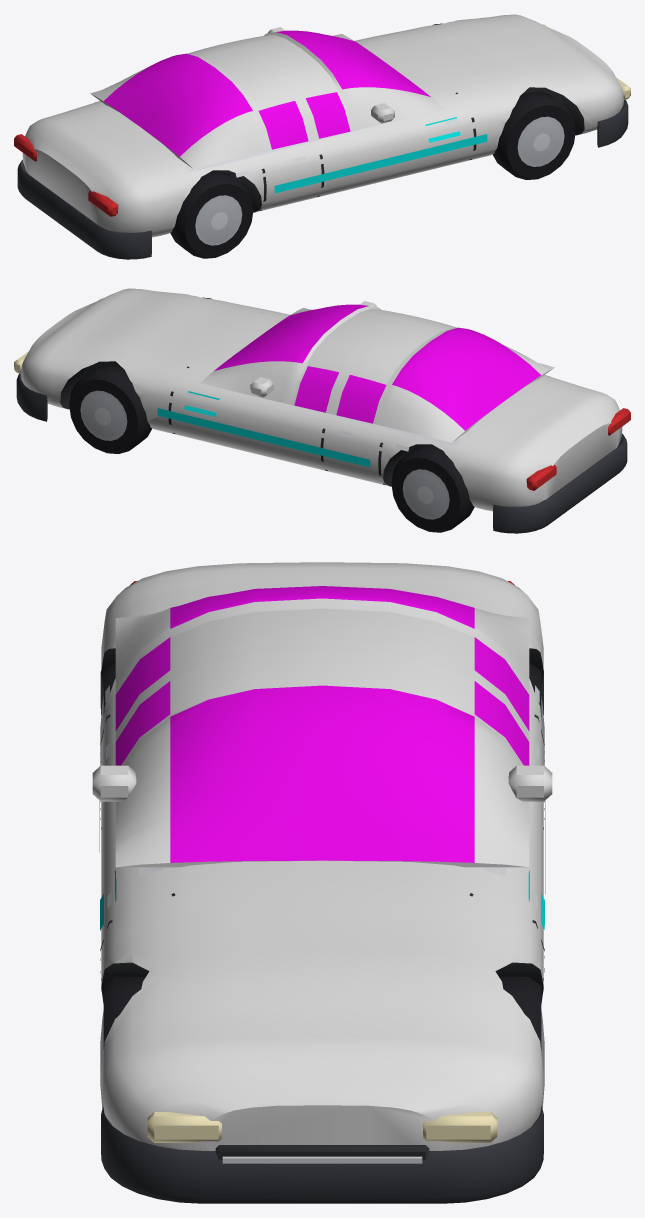
Rendered from luxury.glb.
The picture shows the model from 3 angles, top to bottom: view 1: azimuth 30°, elevation 25°; view 2: azimuth 150°, elevation 25°; view 3: azimuth 270°, elevation 25°; orthographic projection. The views are drawn at different scales.
Parts seen in each view (by area): view 1: LOD0; view 2: LOD0; view 3: LOD0.
Boxes of the visible parts, <box> form: LOD0: <box>14,14,630,259</box>; LOD0: <box>14,288,630,533</box>; LOD0: <box>92,562,552,1203</box>.
Size of what is drawn, in the model's own units: 5.07 by 1.27 by 1.89.
